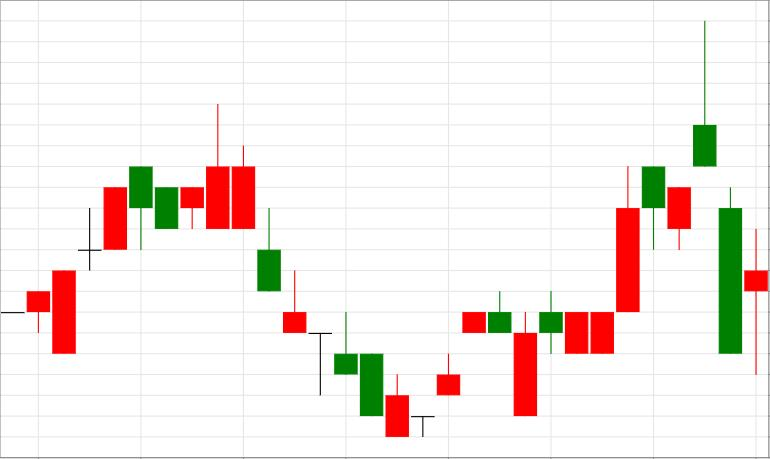shooting_star_fall: (566, 21, 717, 354)
